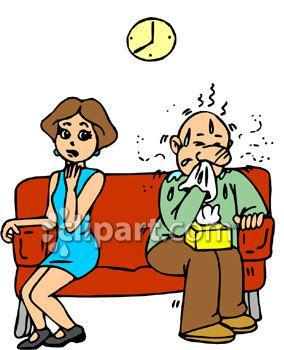person: (4, 95, 119, 348), (148, 109, 264, 345)
sofa: (3, 163, 276, 321)
